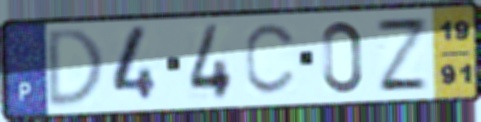0: (320, 19, 364, 95)
4: (109, 23, 166, 108), (186, 22, 236, 103)
C: (242, 21, 301, 99)
D: (45, 26, 107, 111)
Z: (373, 17, 433, 94)
